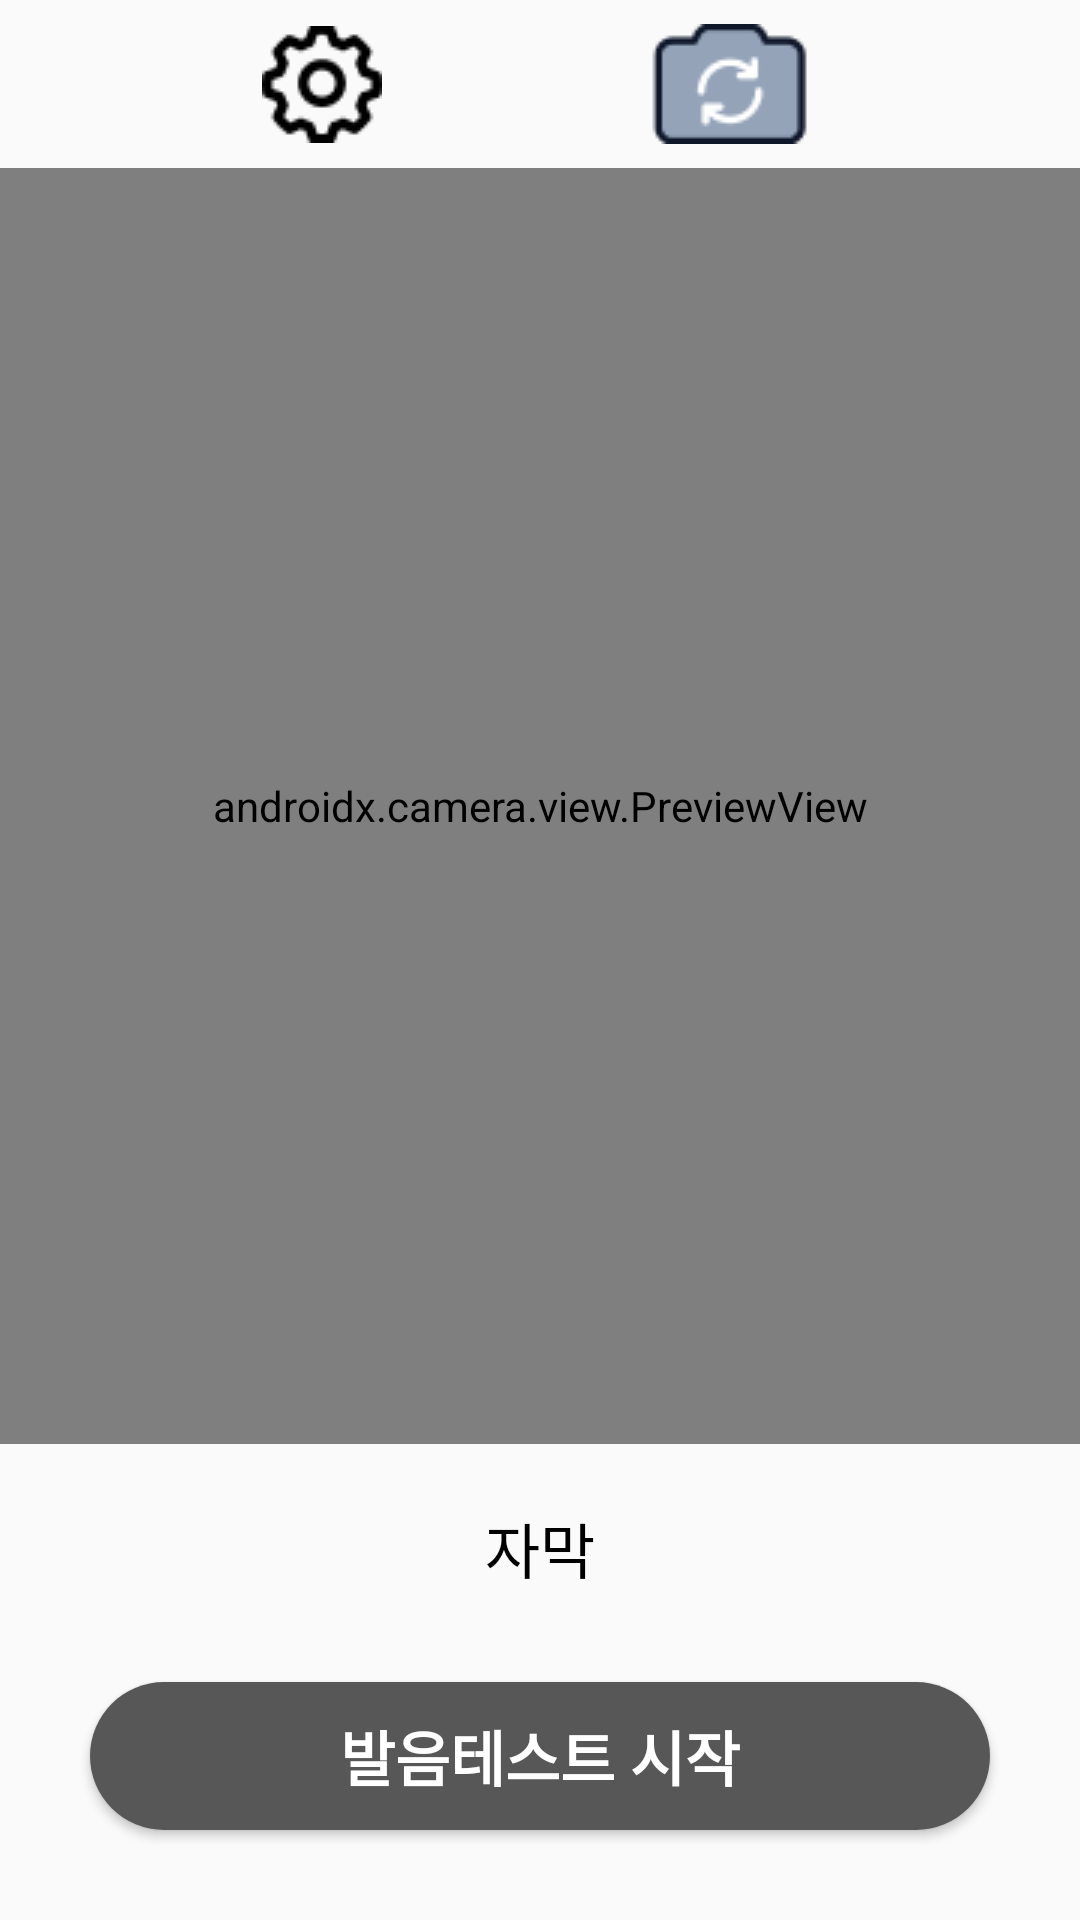

Icon bounding boxes for this 1080x1920 phone screenshot, format bbox(x1, y1, x2, y2):
camerachange: bbox(652, 24, 807, 144)
setting: bbox(262, 26, 382, 143)
